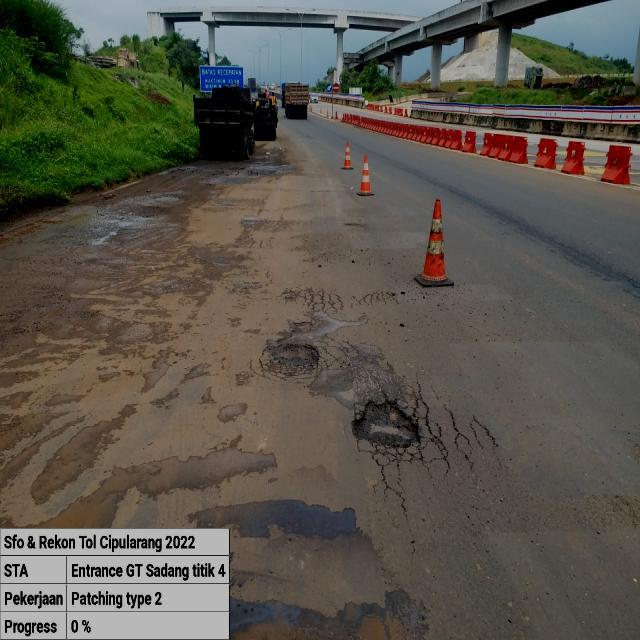Buraco: (348, 396, 425, 451), (261, 320, 323, 371), (150, 193, 184, 204)
